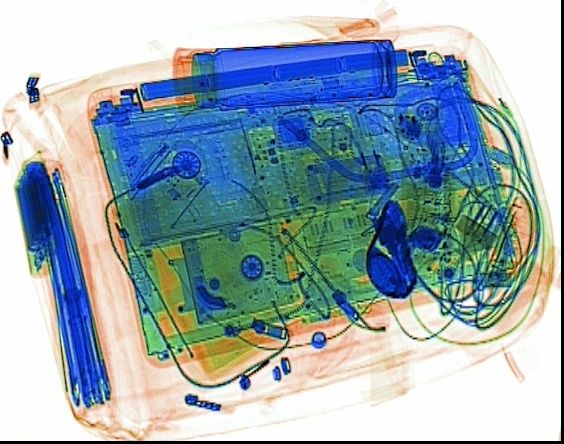powerbank: (15, 148, 50, 276)
